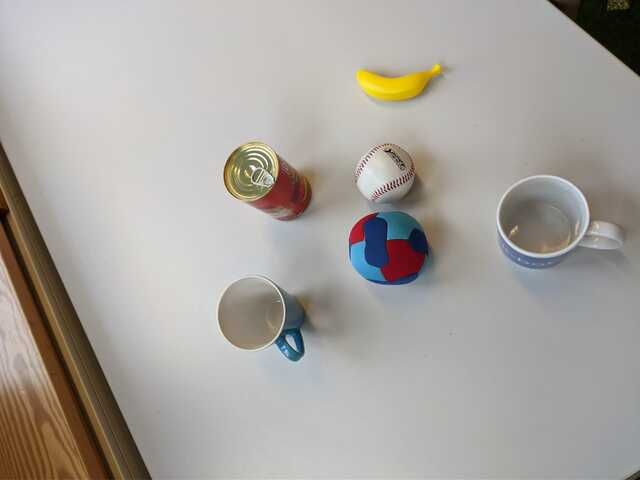005_tomato_soup_can: (217, 137, 317, 224)
011_banana: (349, 54, 447, 106)
025_mug: (494, 169, 628, 274), (213, 271, 315, 366)
055_baseball: (349, 140, 425, 206)
057_racquetball: (344, 211, 434, 287)
